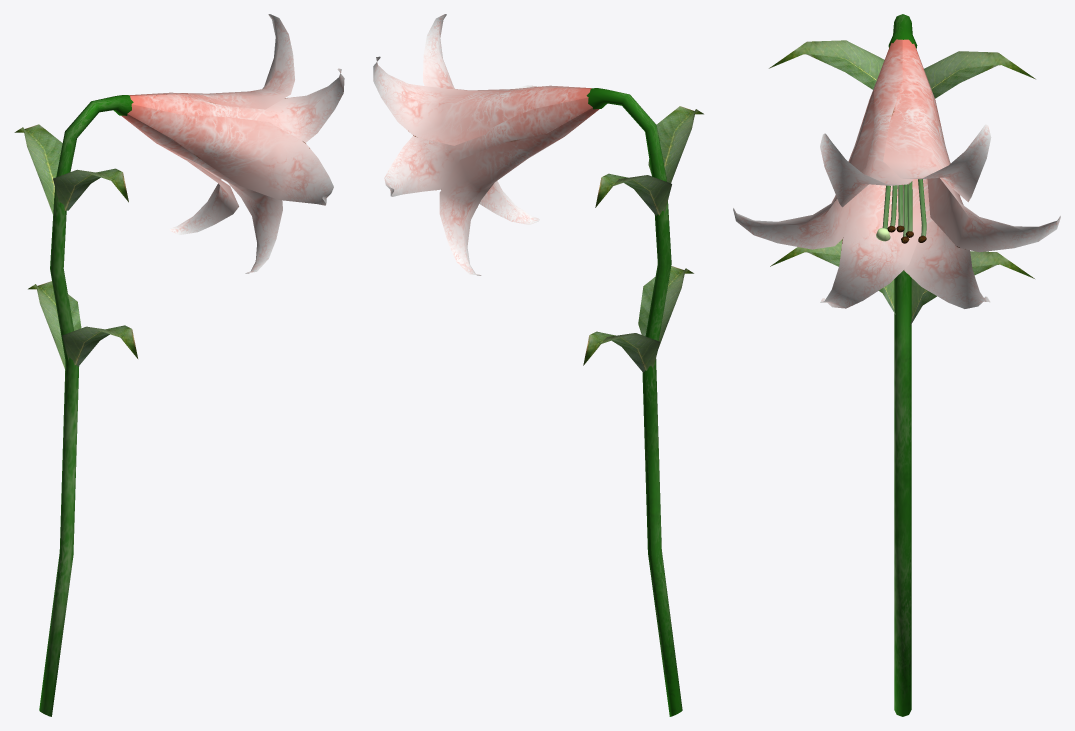
The model's file is flower_C_c01.fbx.
3 renders of one model, left to right at view 1: azimuth 30°, elevation 25°; view 2: azimuth 150°, elevation 25°; view 3: azimuth 270°, elevation 25°, orthographic. The views are drawn at different scales.
Parts seen in each view (by area): view 1: flowerC_c1; view 2: flowerC_c1; view 3: flowerC_c1.
Boxes of the visible parts, box(x1,y1,x2,y2) form: flowerC_c1: box(14, 14, 344, 716); flowerC_c1: box(373, 14, 703, 716); flowerC_c1: box(733, 14, 1060, 716).
Bounding box in the file's own units: 14.36 × 30.65 × 12.28.
1 material, 1 textured.
